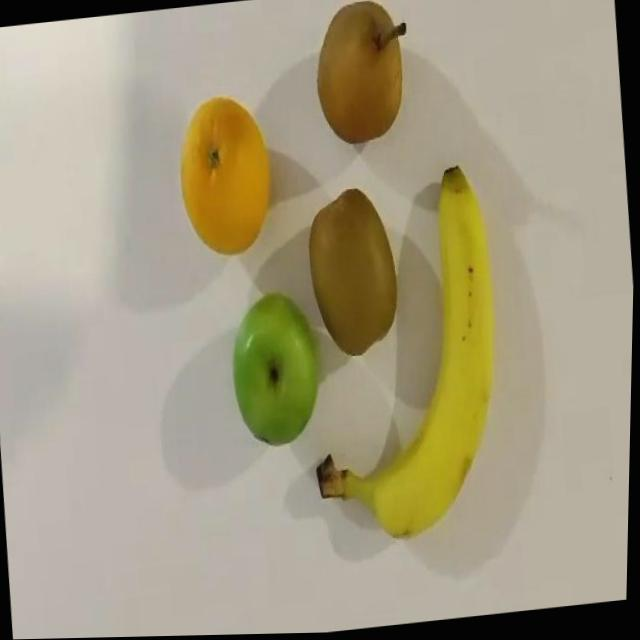Apple: (226, 290, 327, 453)
Banana: (291, 165, 517, 553)
Orange: (172, 93, 280, 262)
